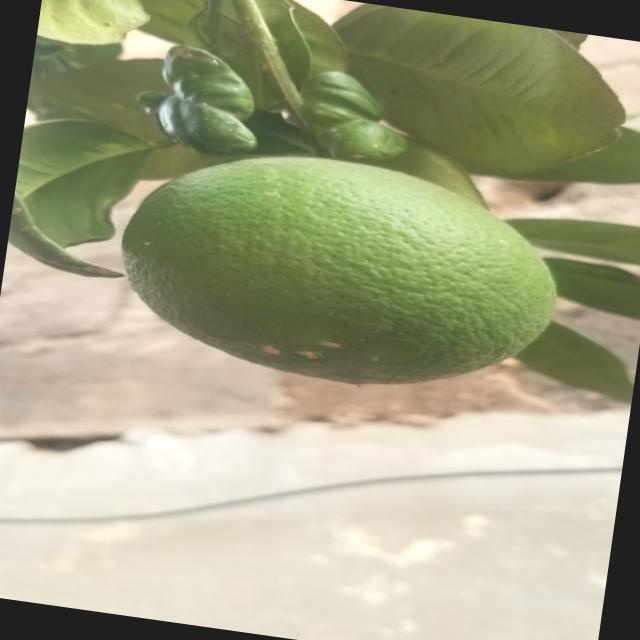agrume: (91, 127, 569, 416)
